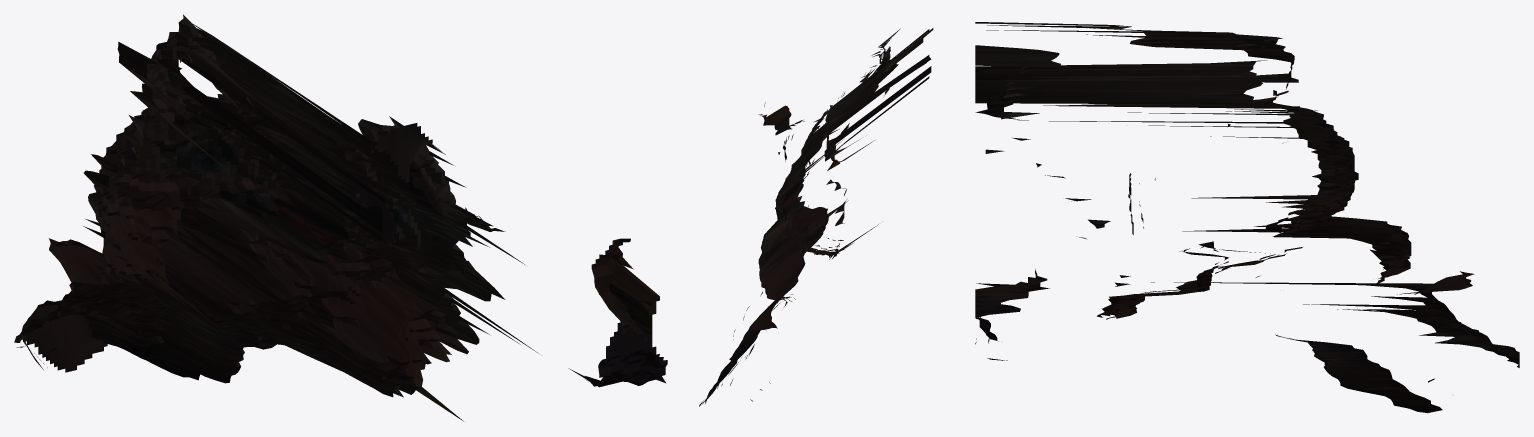
File: frame_00354.glb
3 views of the same model, side by side, from view 1: azimuth 30°, elevation 25°; view 2: azimuth 150°, elevation 25°; view 3: azimuth 270°, elevation 25° (orthographic). The views are drawn at different scales.
Parts seen in each view (by area): view 1: geometry_0; view 2: geometry_0; view 3: geometry_0.
Part boxes in pixels (x1=…): geometry_0: x1=14, y1=14, x2=667, y2=421; geometry_0: x1=699, y1=28, x2=933, y2=406; geometry_0: x1=975, y1=22, x2=1519, y2=413.
Size of the model in its own units: 0.0882 by 0.1265 by 0.16.
Materials: 1 (1 with a texture image).
